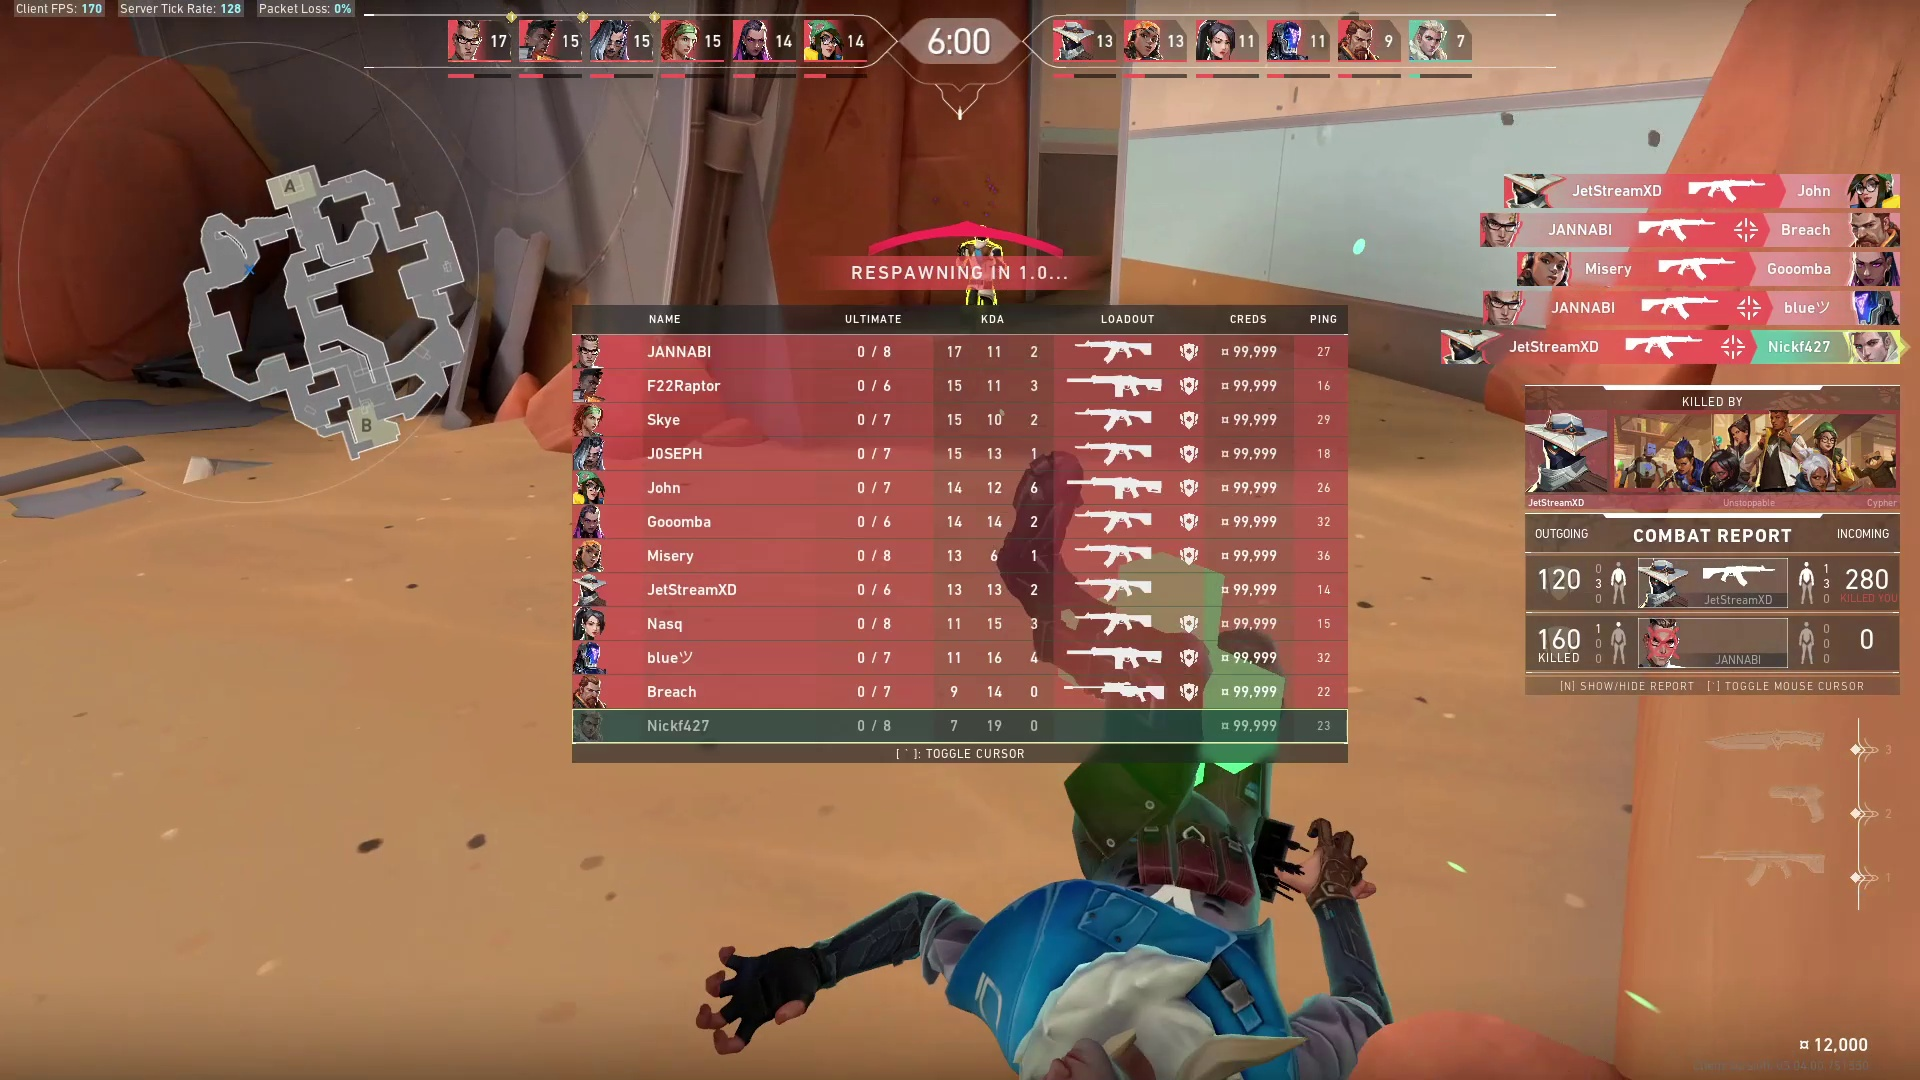enemy_gen: (953, 235, 1004, 261)
